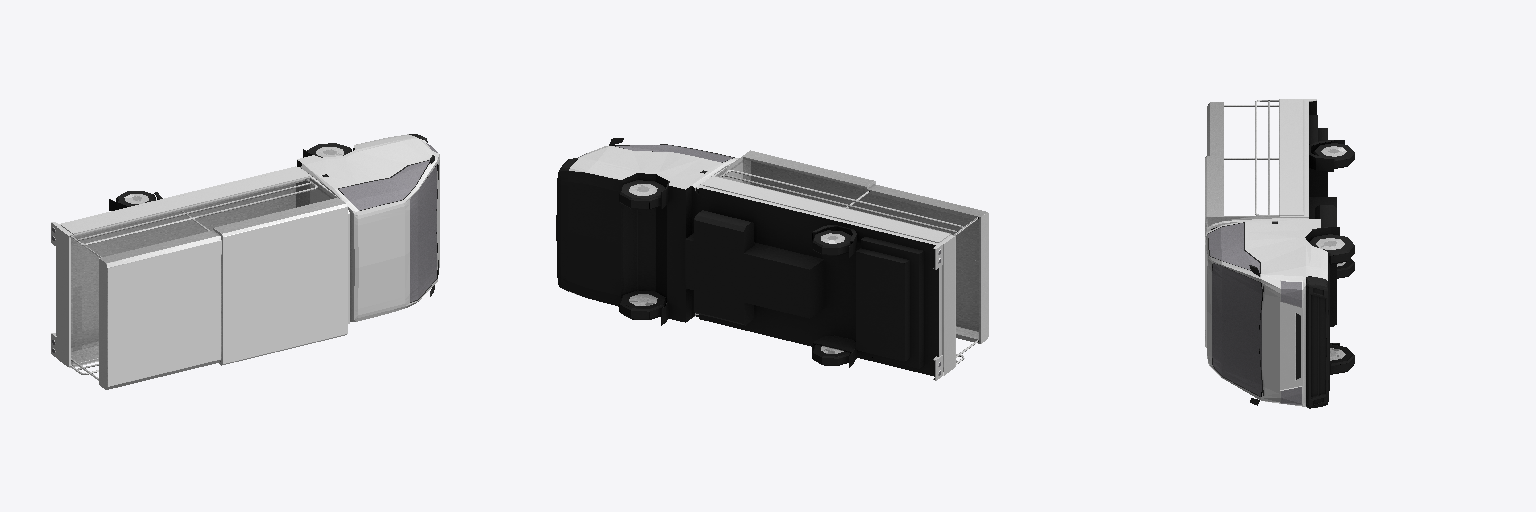
3 renders of one model, left to right at view 1: azimuth 30°, elevation 25°; view 2: azimuth 150°, elevation 25°; view 3: azimuth 270°, elevation 25°, orthographic.
Visible parts, largest first — view 1: truck_Cube.001; view 2: truck_Cube.001; view 3: truck_Cube.001.
Part boxes in pixels (left/top/right/bottom): truck_Cube.001: left=51, top=134, right=439, bottom=389; truck_Cube.001: left=556, top=138, right=988, bottom=380; truck_Cube.001: left=1205, top=99, right=1354, bottom=408.
Size of the model in its own units: 5.12 by 1.8 by 1.79.
Materials: 1 (1 with a texture image).